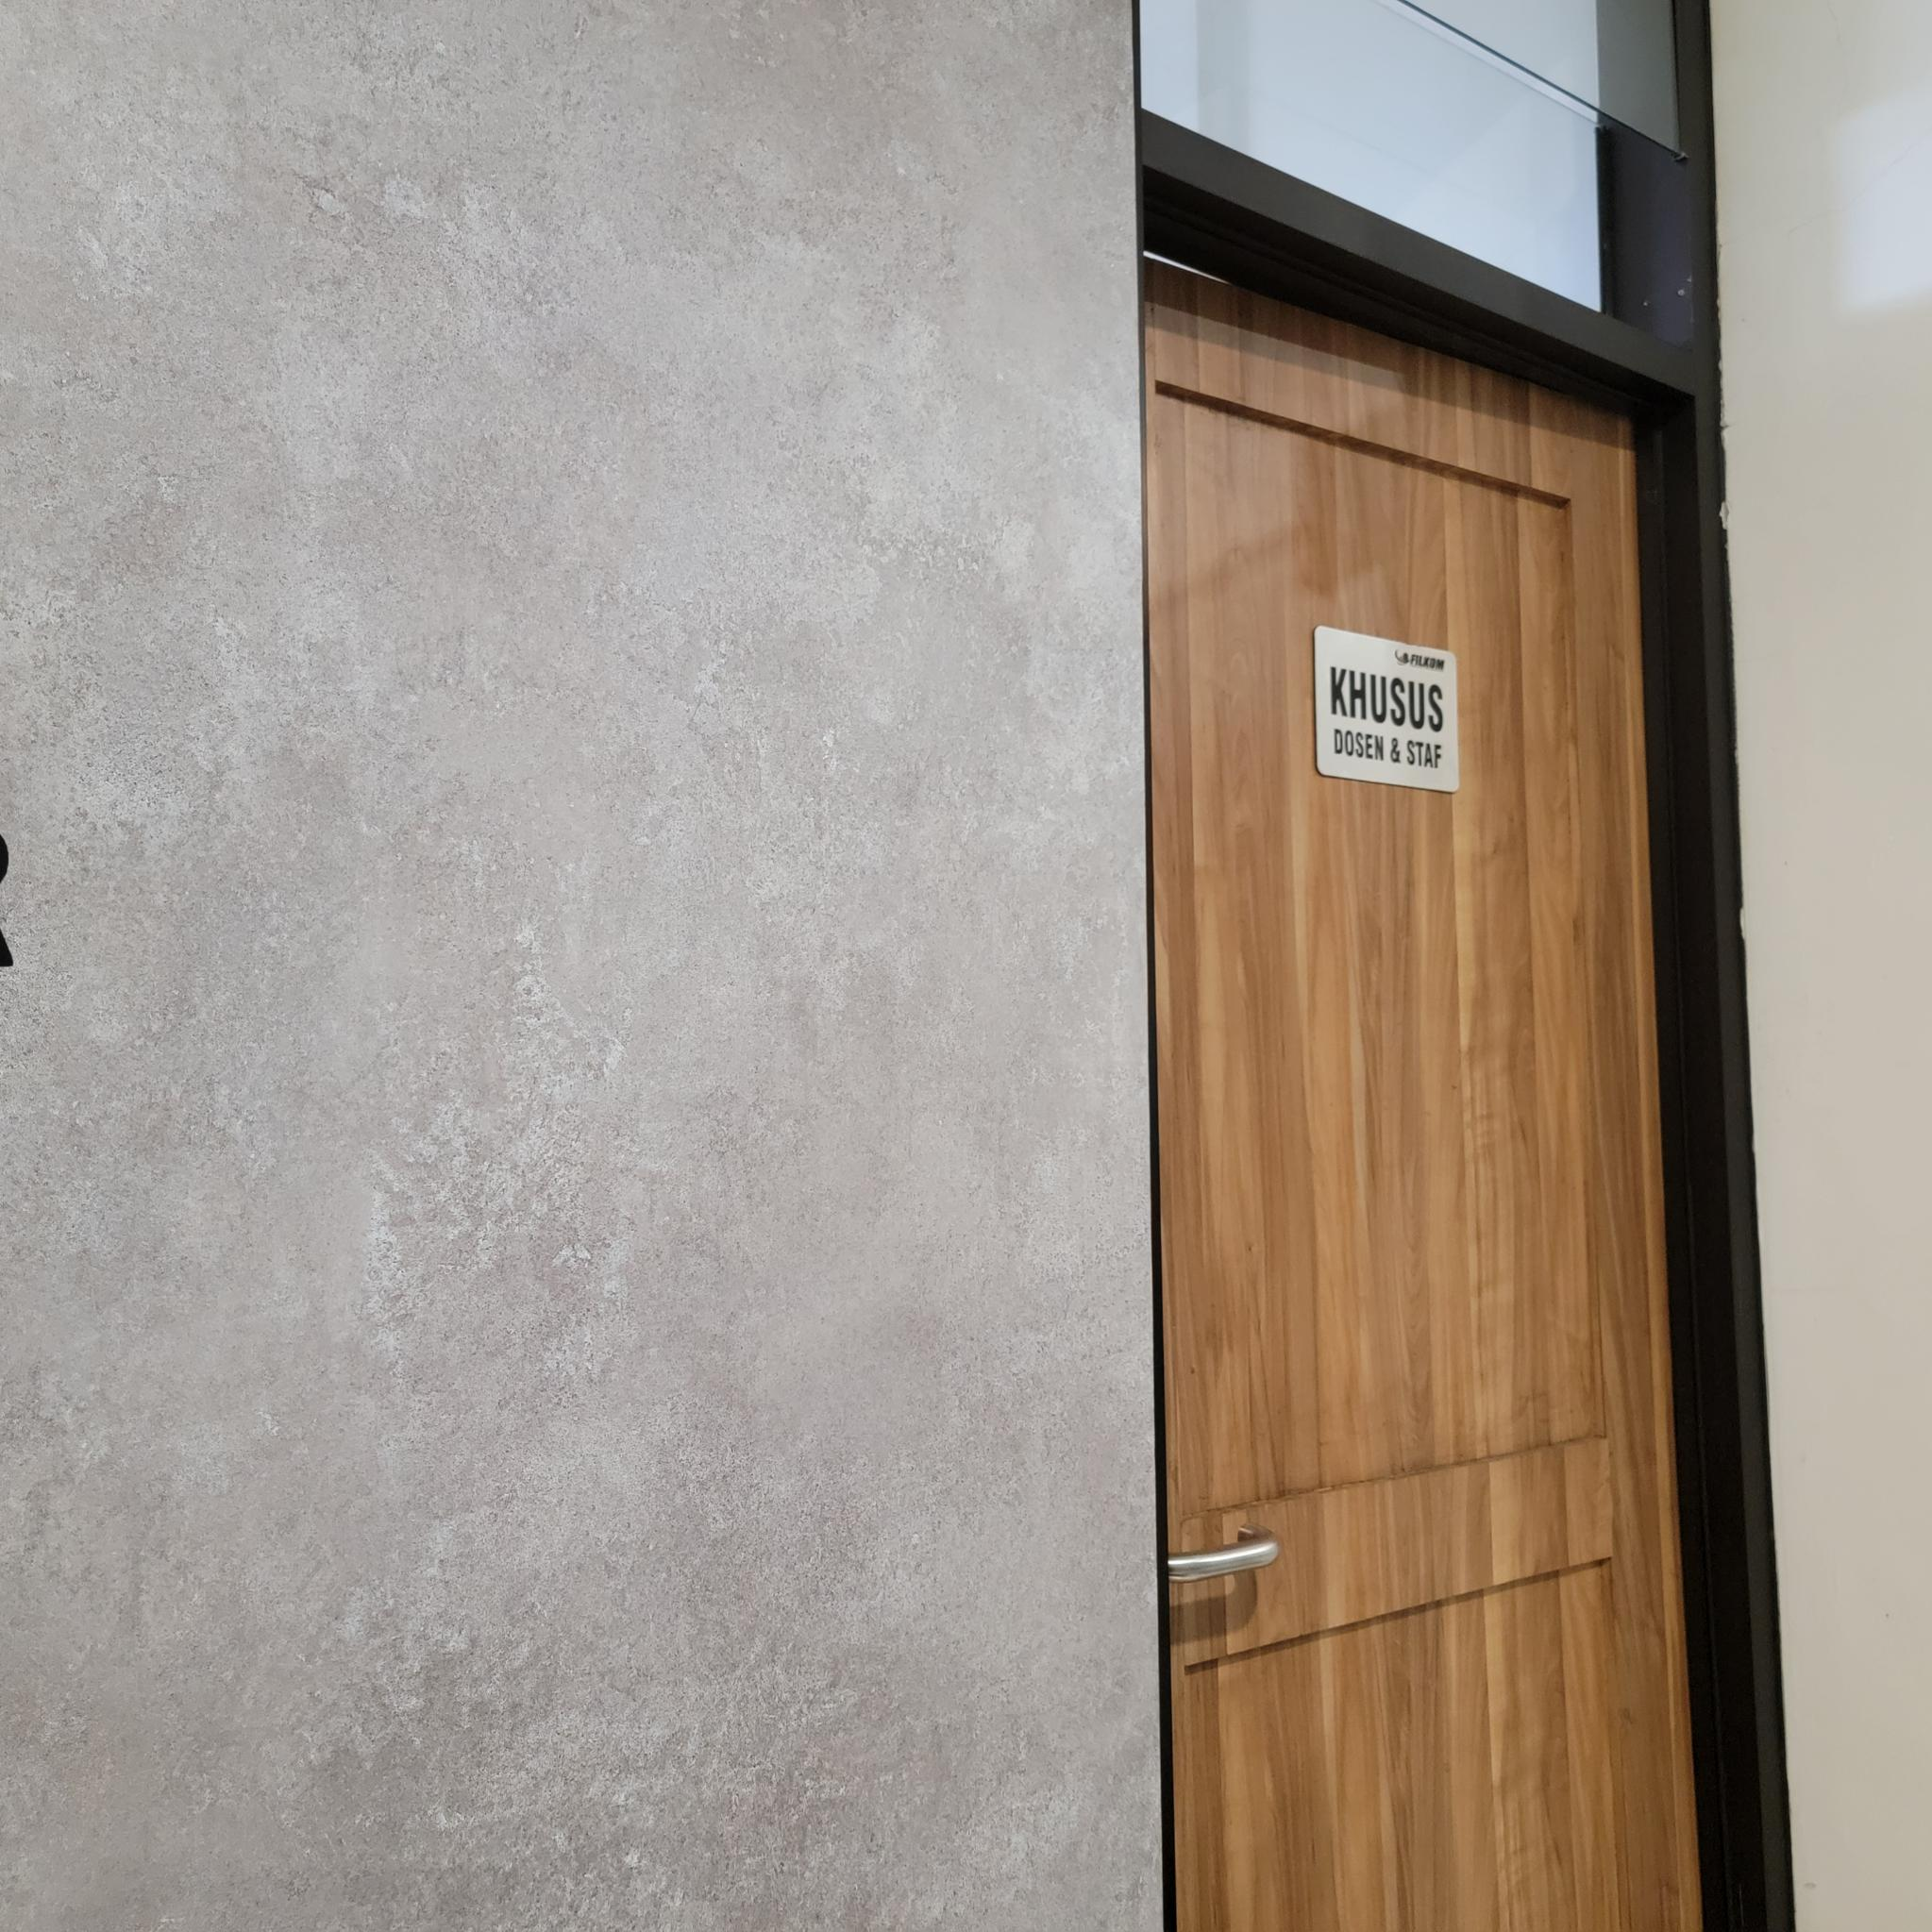plate: (1315, 623, 1461, 794)
